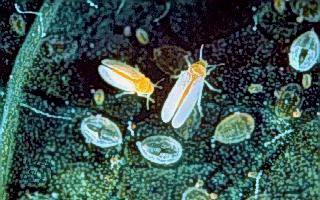whitefly: (161, 42, 224, 128), (99, 56, 162, 112)
